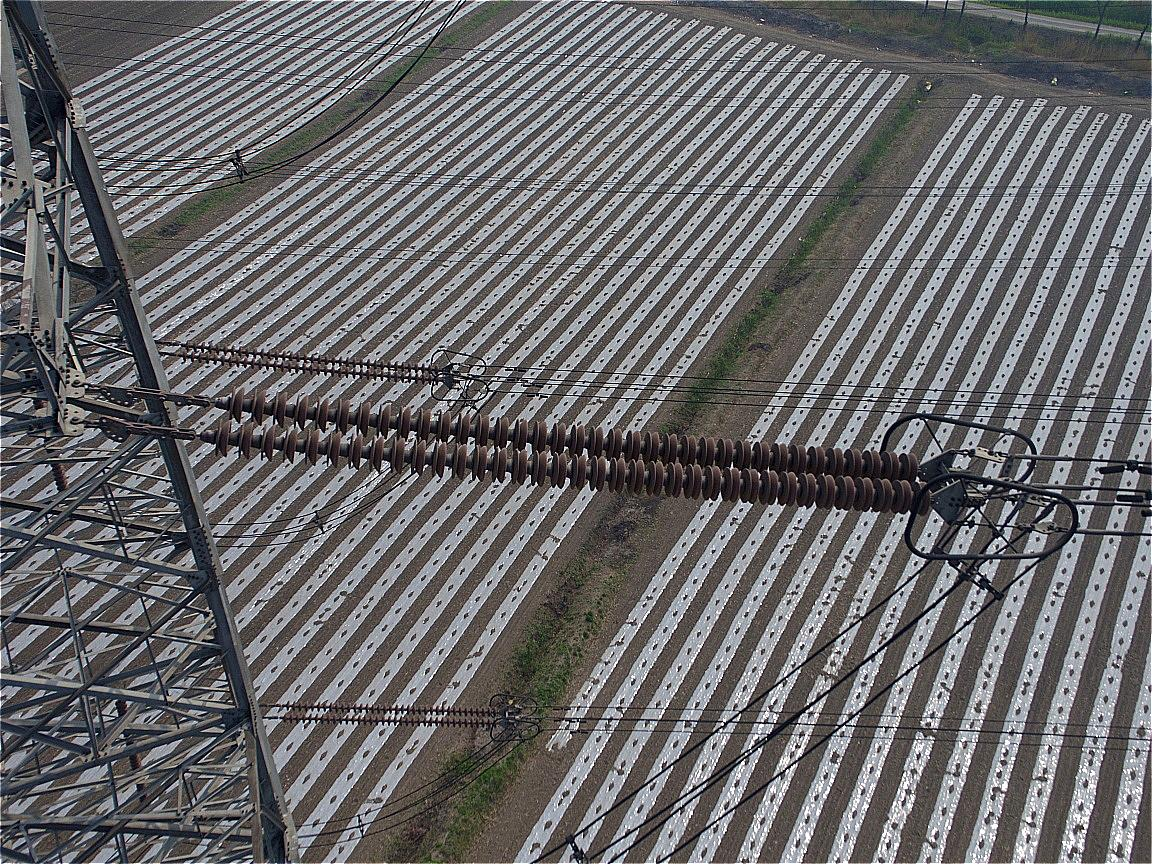insultor1: (183, 340, 442, 385), (277, 699, 500, 729)
insultor2: (214, 386, 933, 517)
